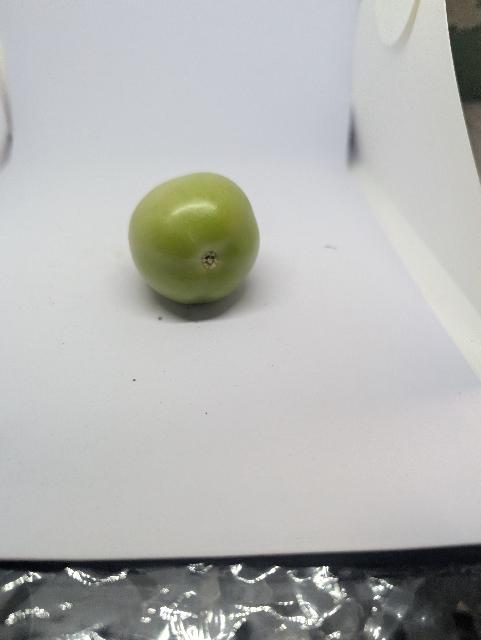green: (125, 170, 262, 309)
